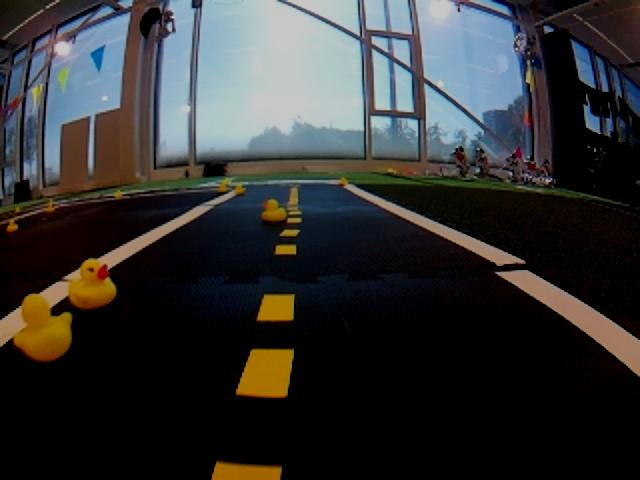Duckies: (13, 295, 70, 361), (68, 260, 116, 309), (261, 200, 287, 222), (6, 220, 19, 233), (46, 201, 56, 213), (235, 183, 246, 193), (339, 177, 347, 185), (115, 191, 124, 198), (218, 185, 226, 192), (14, 207, 20, 214), (222, 179, 229, 184)
